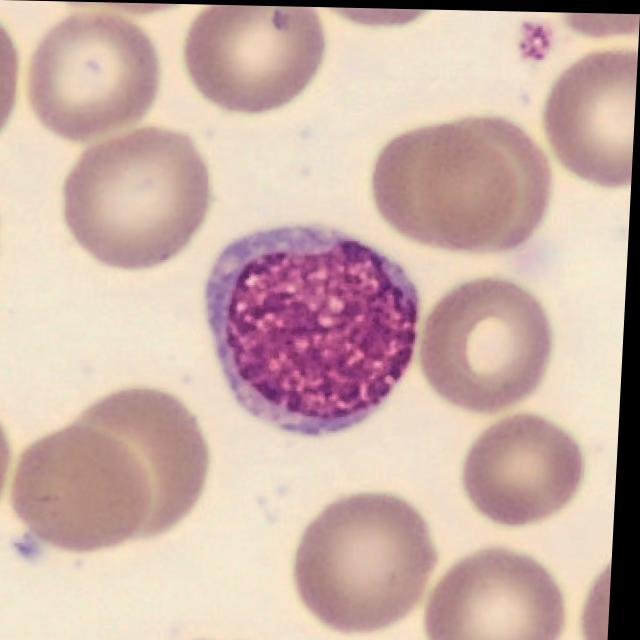Linfocito atipico: (213, 227, 420, 433)
